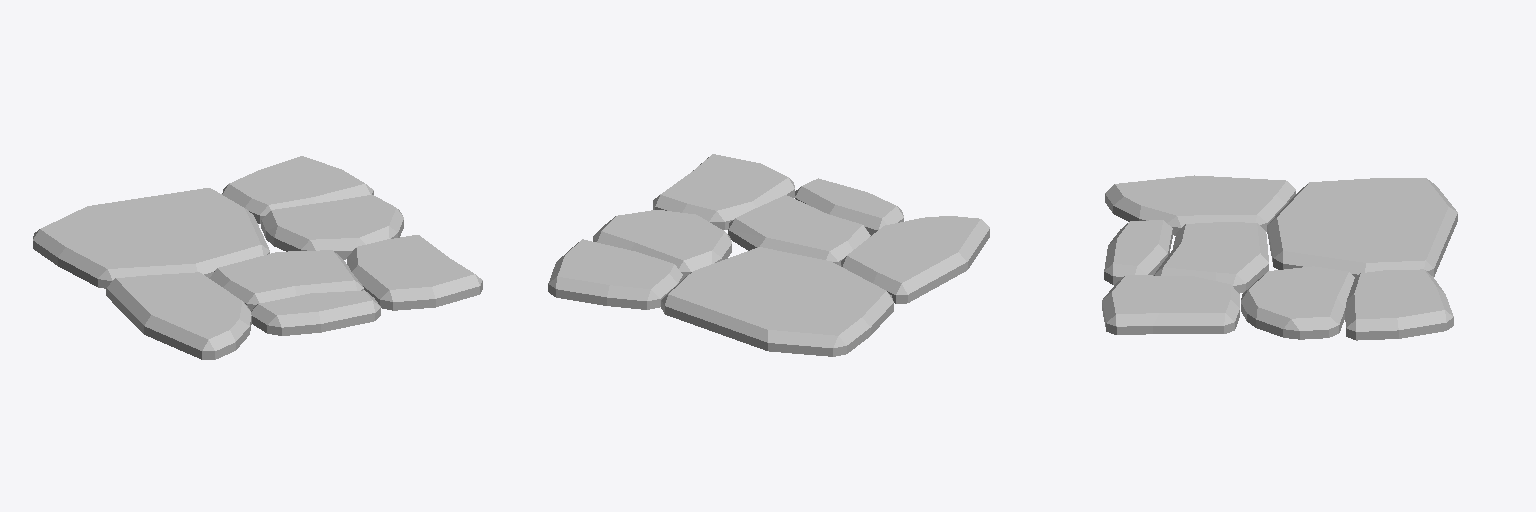
Rendered from path_A.obj.
The picture shows the model from 3 angles: view 1: azimuth 30°, elevation 25°; view 2: azimuth 150°, elevation 25°; view 3: azimuth 270°, elevation 25°; orthographic projection.
Parts seen in each view (by area): view 1: path_A_Cube.697; view 2: path_A_Cube.697; view 3: path_A_Cube.697.
Boxes of the visible parts, box(x1,y1,x2,y2) form: path_A_Cube.697: box(33, 156, 482, 359); path_A_Cube.697: box(548, 154, 989, 356); path_A_Cube.697: box(1102, 175, 1457, 340).
Size of the model in its own units: 1.9 by 0.1 by 1.88.